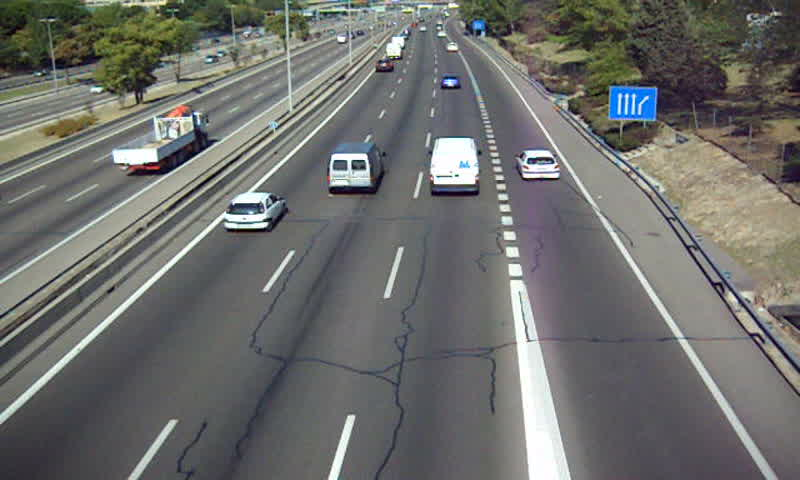car: (222, 193, 285, 234), (516, 148, 560, 180), (440, 73, 461, 89), (374, 60, 393, 73)
van: (327, 142, 385, 194), (429, 138, 480, 194)
